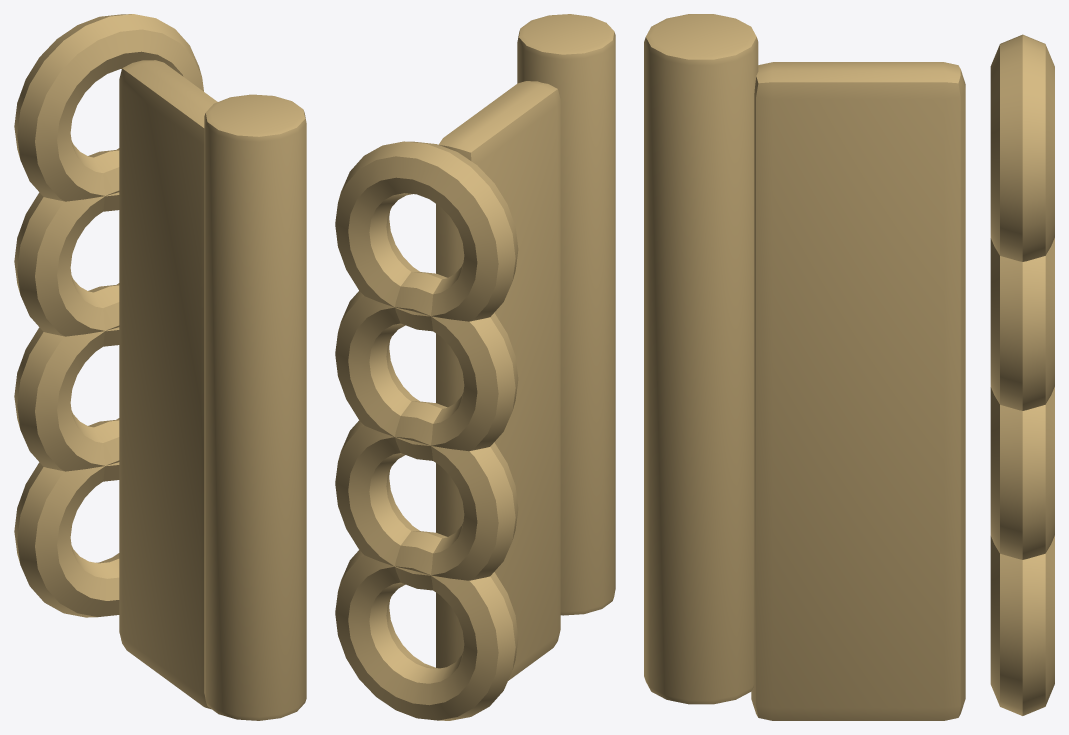
File: knuckles.glb
The picture shows the model from 3 angles, left to right: view 1: azimuth 30°, elevation 25°; view 2: azimuth 150°, elevation 25°; view 3: azimuth 270°, elevation 25°; orthographic projection. The views are drawn at different scales.
Parts seen in each view (by area): view 1: knuckles_palmbar, knuckles_web, knuckles_ring0, knuckles_ring3, knuckles_ring1, knuckles_ring2; view 2: knuckles_web, knuckles_palmbar, knuckles_ring0, knuckles_ring3, knuckles_ring1, knuckles_ring2; view 3: knuckles_web, knuckles_palmbar, knuckles_ring0, knuckles_ring3, knuckles_ring1, knuckles_ring2.
Boxes of the visible parts, box(x1,y1,x2,y2) form: knuckles_palmbar: box(204, 94, 306, 720); knuckles_web: box(119, 60, 217, 709); knuckles_ring0: box(14, 14, 203, 211); knuckles_ring3: box(14, 419, 119, 617); knuckles_ring1: box(14, 150, 119, 346); knuckles_ring2: box(14, 284, 119, 481); knuckles_web: box(436, 81, 560, 680); knuckles_palmbar: box(517, 14, 615, 615); knuckles_ring0: box(335, 141, 518, 331); knuckles_ring3: box(335, 531, 518, 720); knuckles_ring1: box(335, 272, 518, 460); knuckles_ring2: box(335, 401, 518, 590); knuckles_web: box(751, 62, 965, 720); knuckles_palmbar: box(644, 14, 758, 704); knuckles_ring0: box(990, 34, 1054, 261); knuckles_ring3: box(990, 535, 1054, 715); knuckles_ring1: box(990, 238, 1054, 410); knuckles_ring2: box(990, 387, 1054, 559).
Bounding box in the file's own units: 0.033 × 0.105 × 0.0575.
